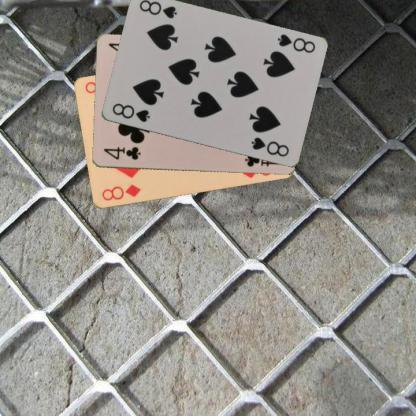4c: (101, 145, 142, 162)
8d: (98, 182, 141, 202)
8s: (110, 100, 152, 124), (274, 31, 316, 55)
